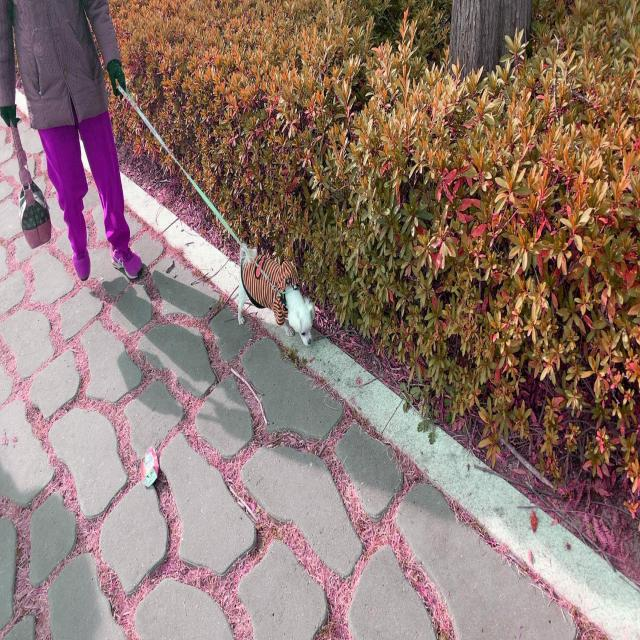Leashed_Dog: (86, 66, 314, 350)
